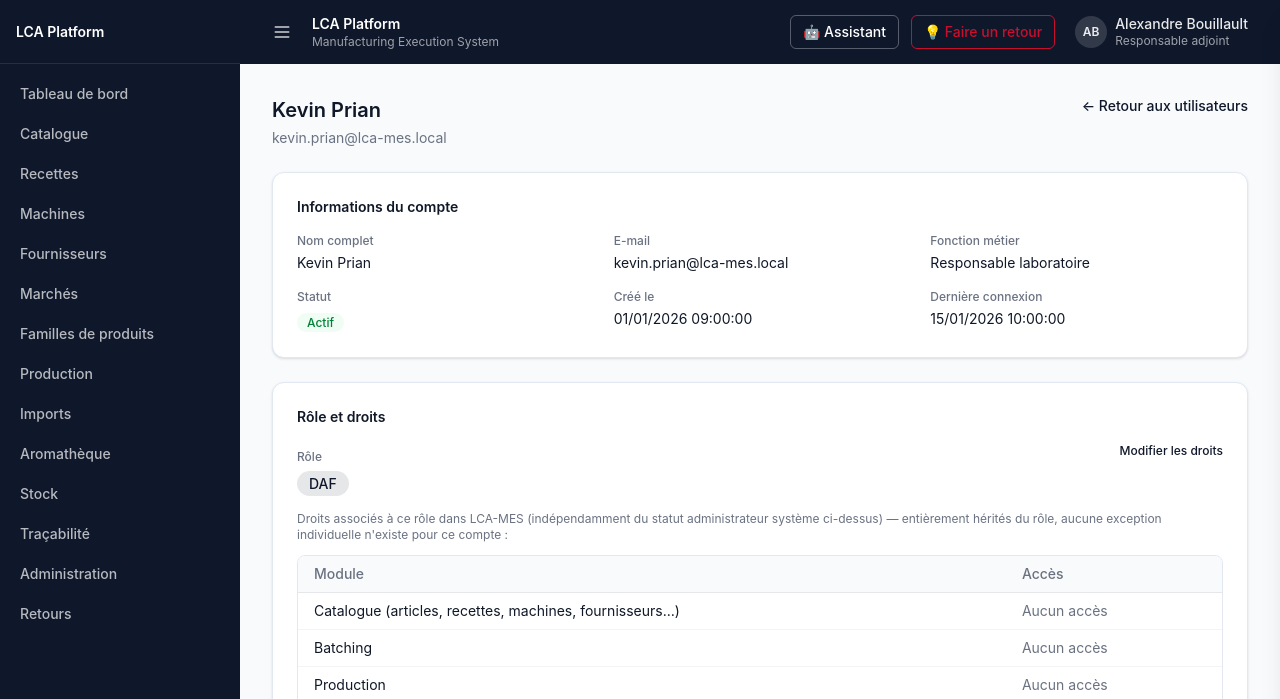
Scenario: UserDetailPage › modification des droits › affiche une erreur si l'enregistrement échoue et conserve le formulaire ouvert
This screenshot has width=1280, height=699.
Click the button "Modifier les droits" at [1171, 451], box [1120,443,1223,459]
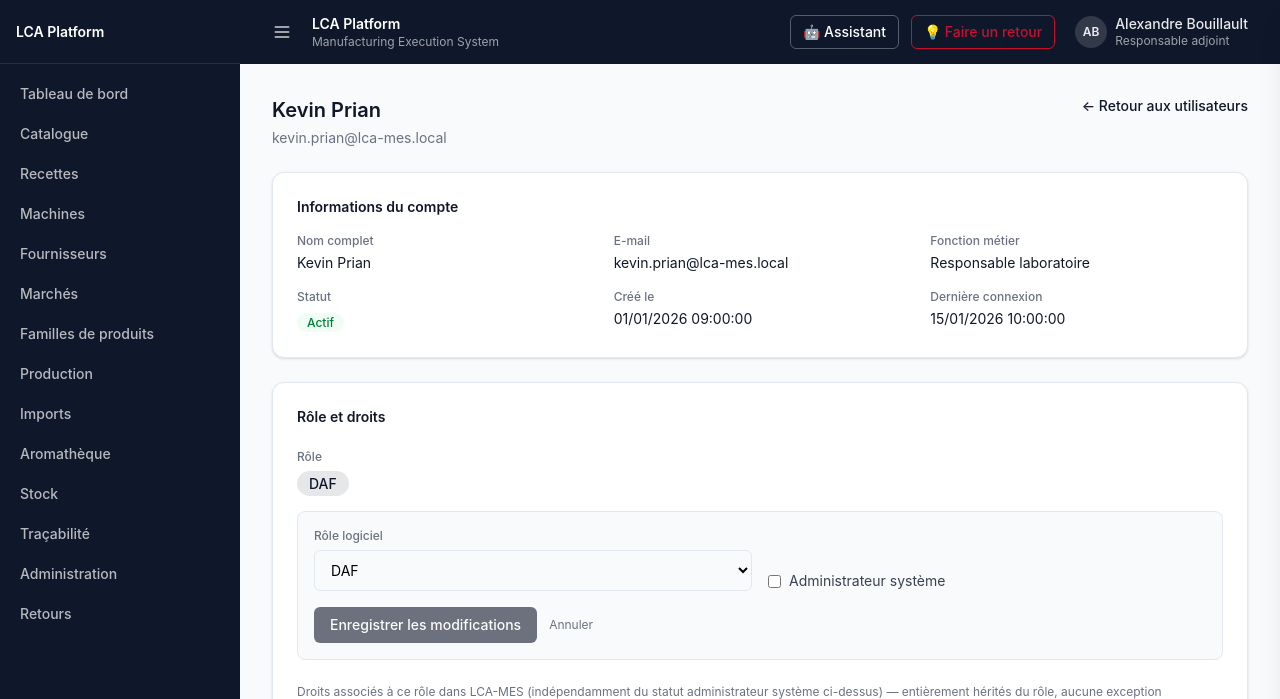
Select "Responsable adjoint" in the dropdown labelled "Rôle logiciel" at [533, 570], box [314,550,752,591]
(page scrolled)
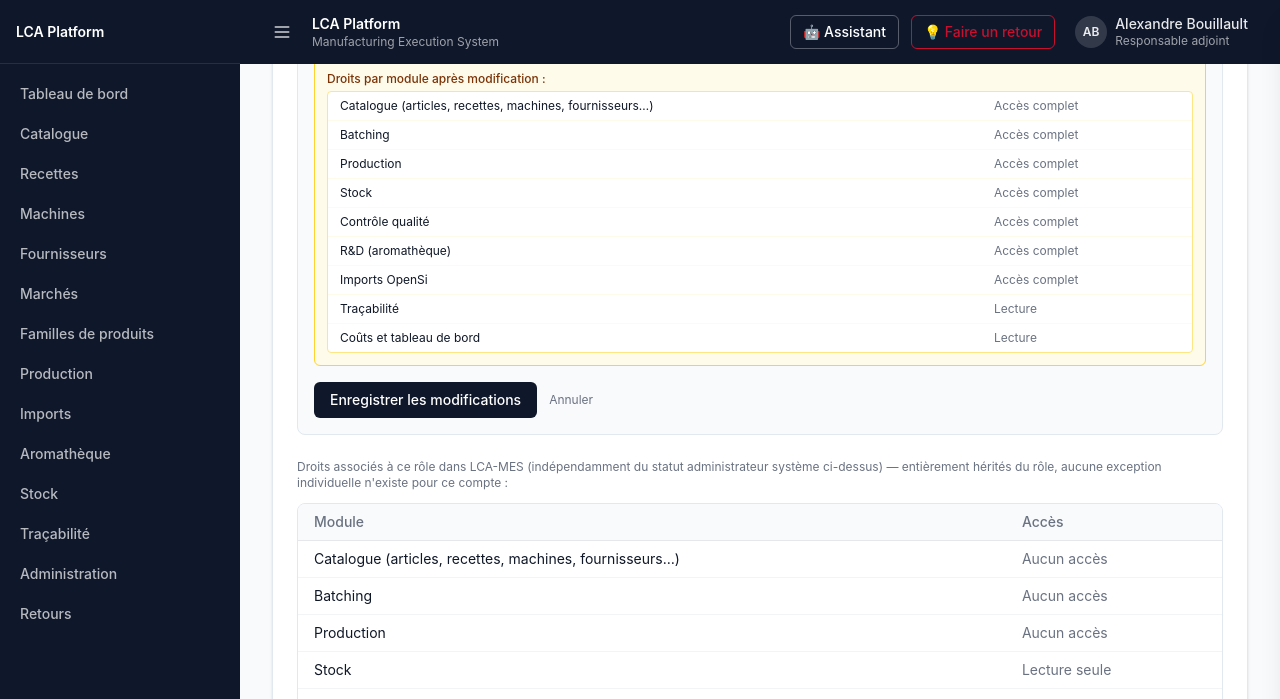
Click the button "Enregistrer les modifications" at [426, 400], box [314,382,537,418]
(page scrolled)
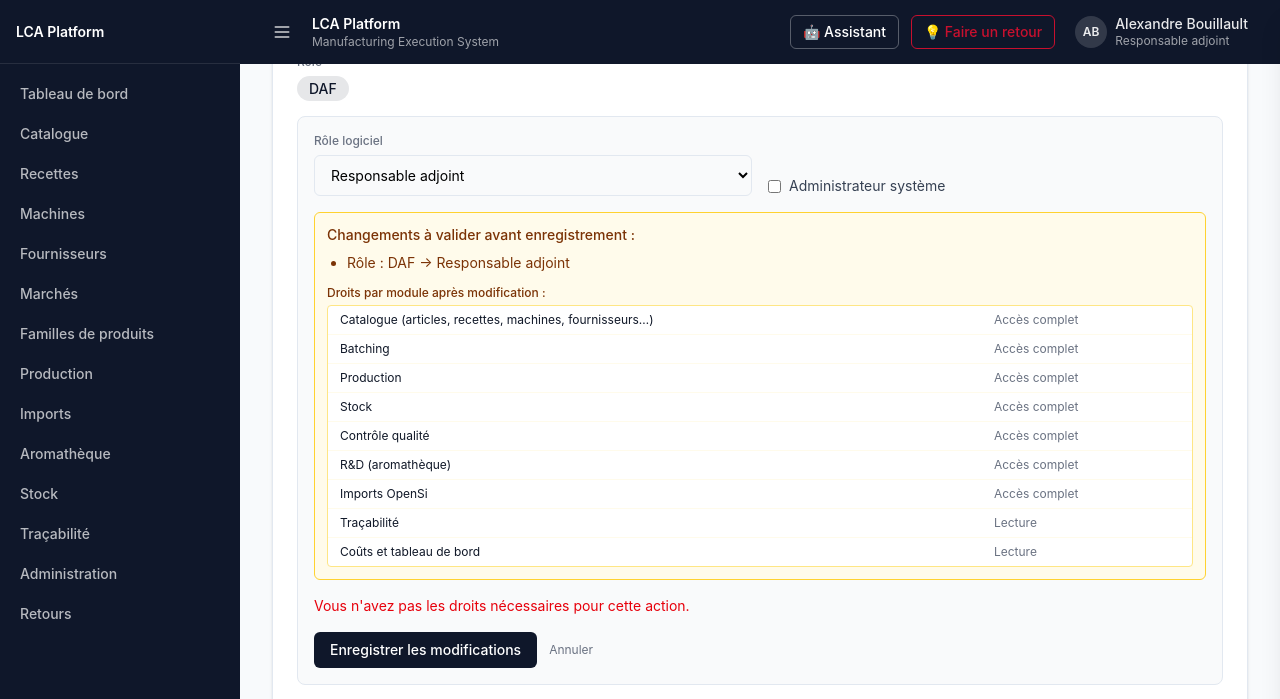
Check: the element with test id "rights-edit-form" is shown, box [297,116,1223,685]
Check: the text "Vous n'avez pas les droits nécessaires pour cette action." is shown, box [314,597,690,614]
